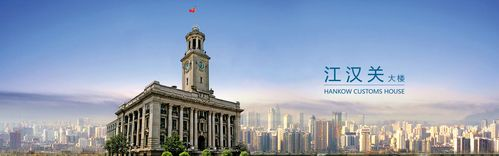buildings: (133, 17, 251, 155)
